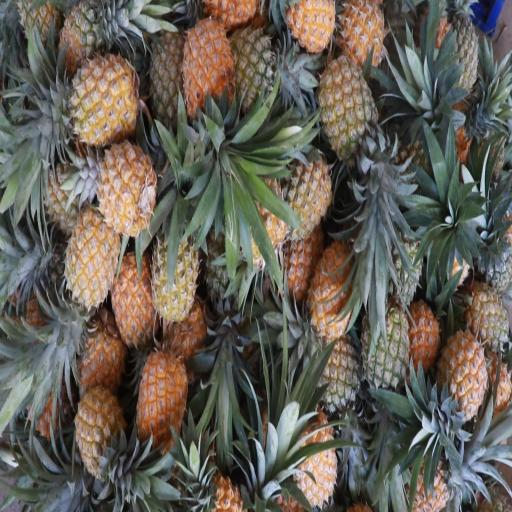------------------------------: (316, 48, 382, 172), (307, 324, 363, 432), (150, 212, 200, 327), (224, 21, 284, 105), (58, 0, 108, 90), (459, 252, 512, 334)
Pineapple - v8 v1: (46, 48, 140, 149), (93, 131, 156, 243), (283, 394, 342, 512), (61, 199, 123, 311), (172, 18, 234, 127), (305, 236, 363, 352), (130, 344, 187, 452), (437, 313, 488, 428), (68, 384, 126, 482), (280, 145, 334, 243), (109, 246, 161, 346), (185, 434, 248, 512)
